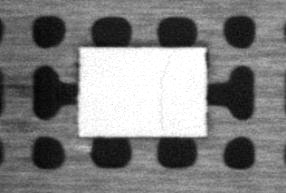DIE_CRACK: (154, 59, 172, 132)
